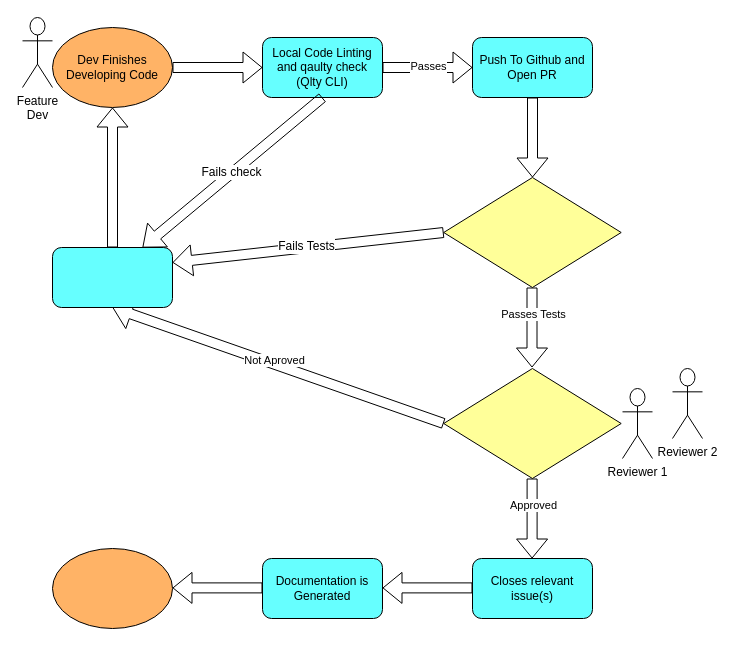
This 735x646 diagram has some shape labels left out. Each missing label, with the centre of its shape:
"2 Humans Reveiw PR following the outlined process" belongs at [532,423].
"Code is merged into main branch" belongs at [112,588].
"Revise Code" belongs at [112,277].
"Run Automatic Uint Tests (Jest)" belongs at [532,232].
